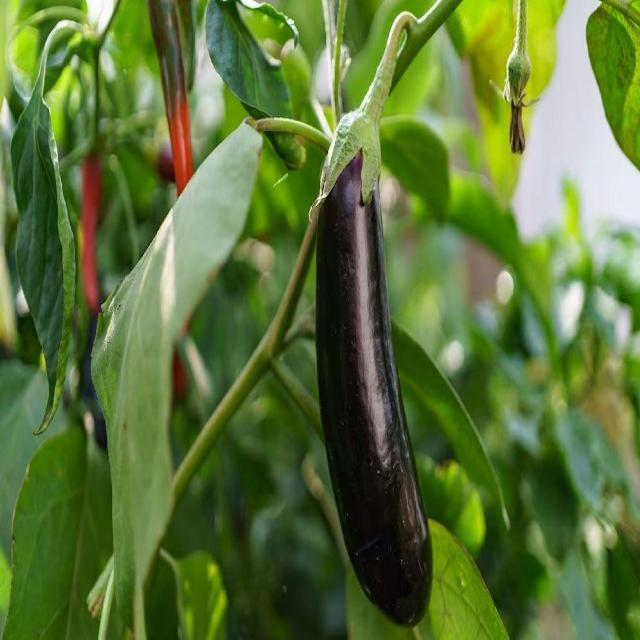eggplant: (314, 9, 433, 629)
